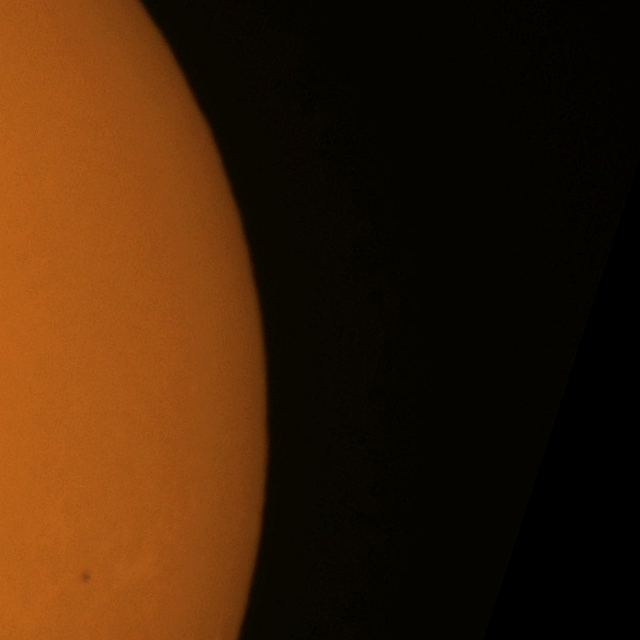sunspot: (74, 555, 99, 592)
